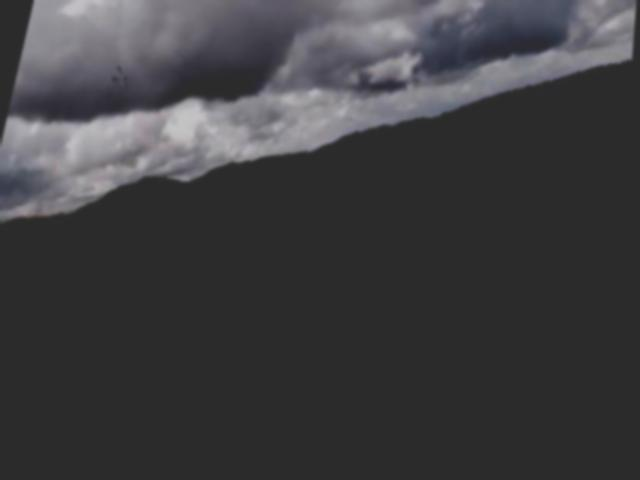iha: (107, 69, 136, 94)
